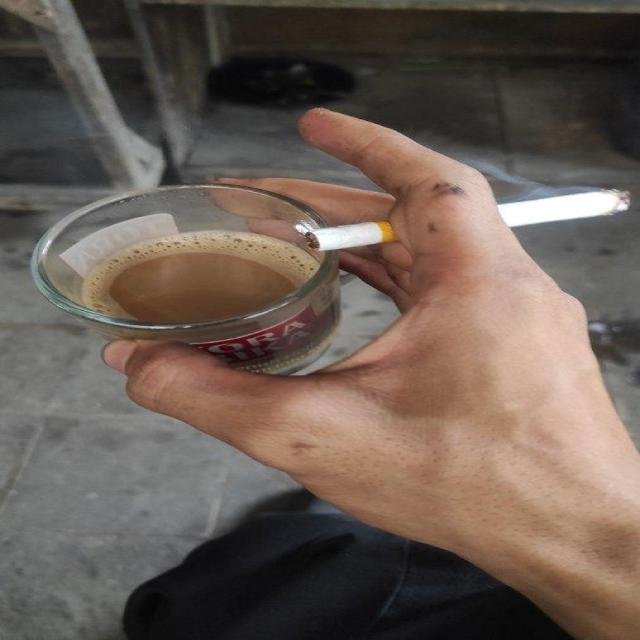rokok: (304, 188, 632, 260)
